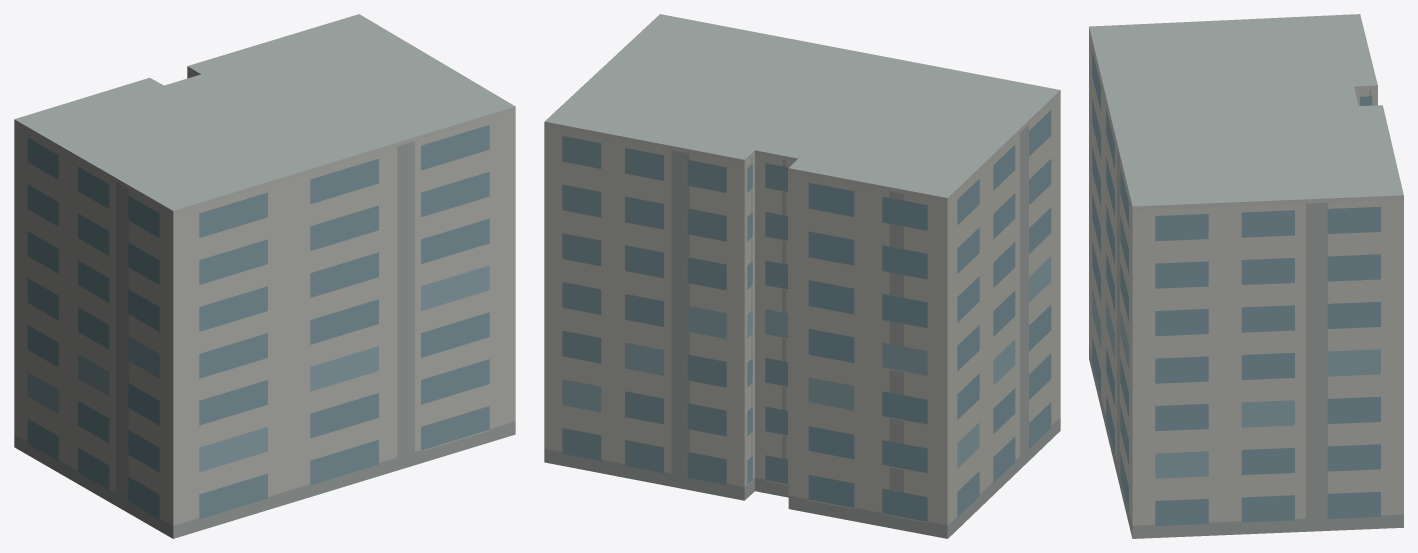
Rendered from survey-upis-32662163.glb.
The picture shows the model from 3 angles, left to right: view 1: azimuth 30°, elevation 25°; view 2: azimuth 150°, elevation 25°; view 3: azimuth 270°, elevation 25°; orthographic projection. The views are drawn at different scales.
Visible parts, largest first — view 1: survey-upis-32662163.tmp; view 2: survey-upis-32662163.tmp; view 3: survey-upis-32662163.tmp.
Part boxes in pixels (x1,y1,x2,y2): survey-upis-32662163.tmp: [14, 14, 515, 538]; survey-upis-32662163.tmp: [544, 14, 1060, 538]; survey-upis-32662163.tmp: [1089, 14, 1403, 538].
Bounding box in the file's own units: 24.84 × 20 × 17.18.
